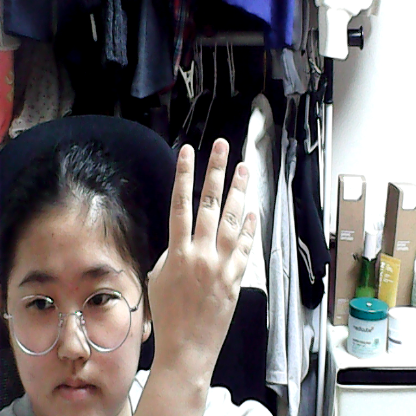Finger_4: (145, 131, 265, 369)
